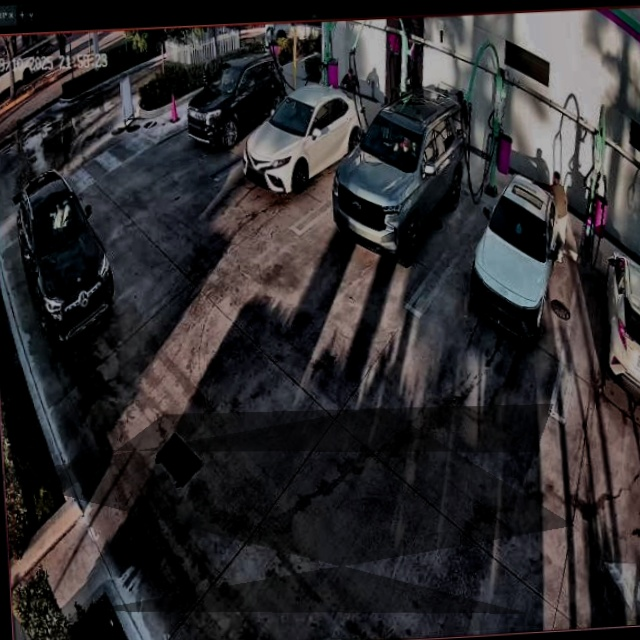Car: (329, 85, 474, 274), (466, 174, 564, 344), (240, 81, 368, 197)
